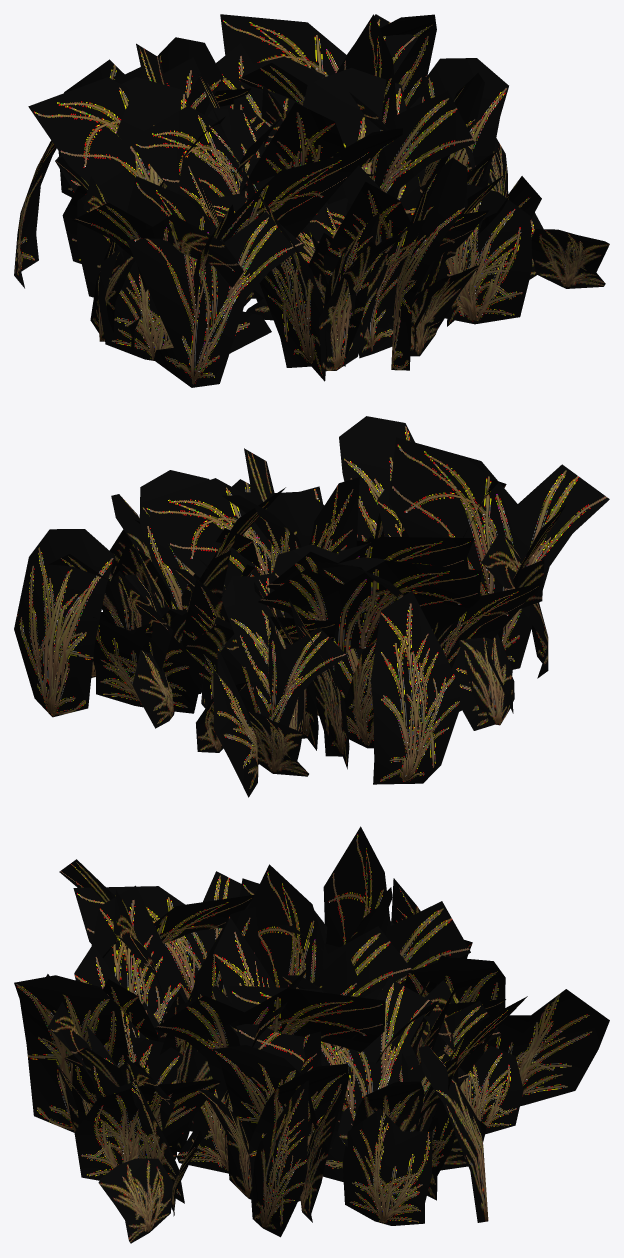
File: gp-gras-3.glb
3 views of the same model, one above another, from view 1: azimuth 30°, elevation 25°; view 2: azimuth 150°, elevation 25°; view 3: azimuth 270°, elevation 25° (orthographic). The views are drawn at different scales.
Visible parts, largest first — view 1: gp-gras-3; view 2: gp-gras-3; view 3: gp-gras-3.
Boxes of the visible parts, x1,y1,x2,y2 form: gp-gras-3: [14, 14, 609, 387]; gp-gras-3: [14, 416, 609, 797]; gp-gras-3: [14, 826, 609, 1243].
Bounding box in the file's own units: 2.88 × 1.29 × 3.26.
1 material, 1 textured.
